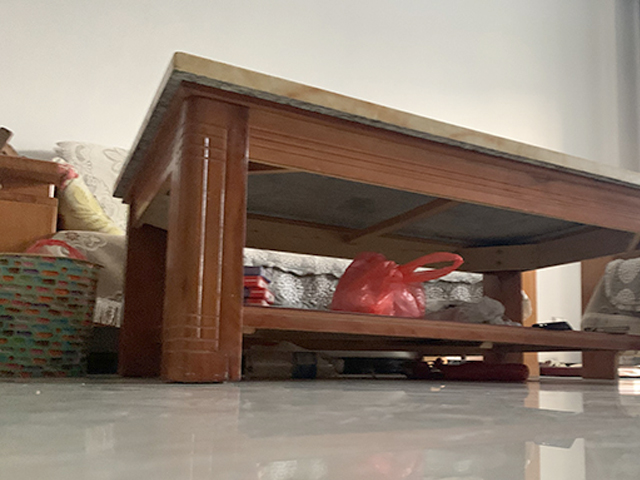table: (112, 49, 640, 385)
trashcan: (1, 252, 104, 381)
